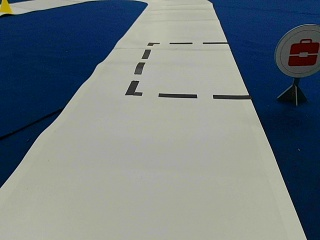company: (275, 23, 319, 77)
